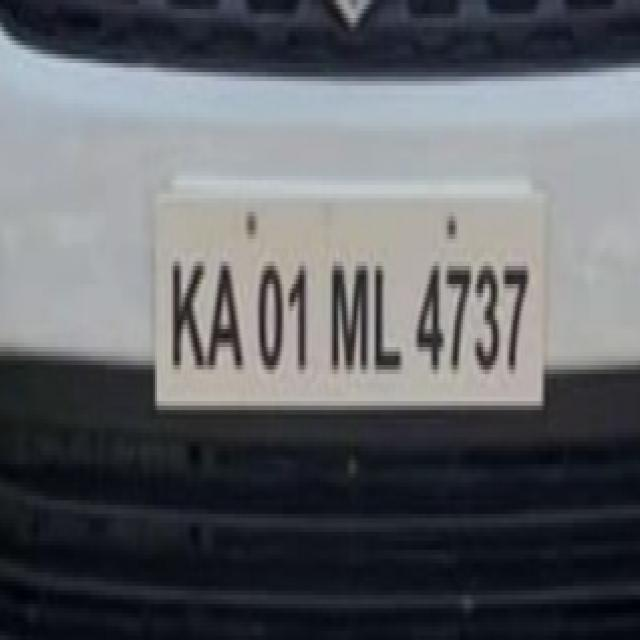0: (255, 251, 286, 378)
1: (286, 252, 314, 382)
3: (473, 256, 502, 378)
4: (412, 250, 445, 378)
7: (501, 241, 536, 373), (443, 248, 474, 384)
A: (208, 252, 245, 379)
K: (170, 257, 207, 382)
L: (368, 250, 404, 374)
M: (329, 252, 371, 379)
